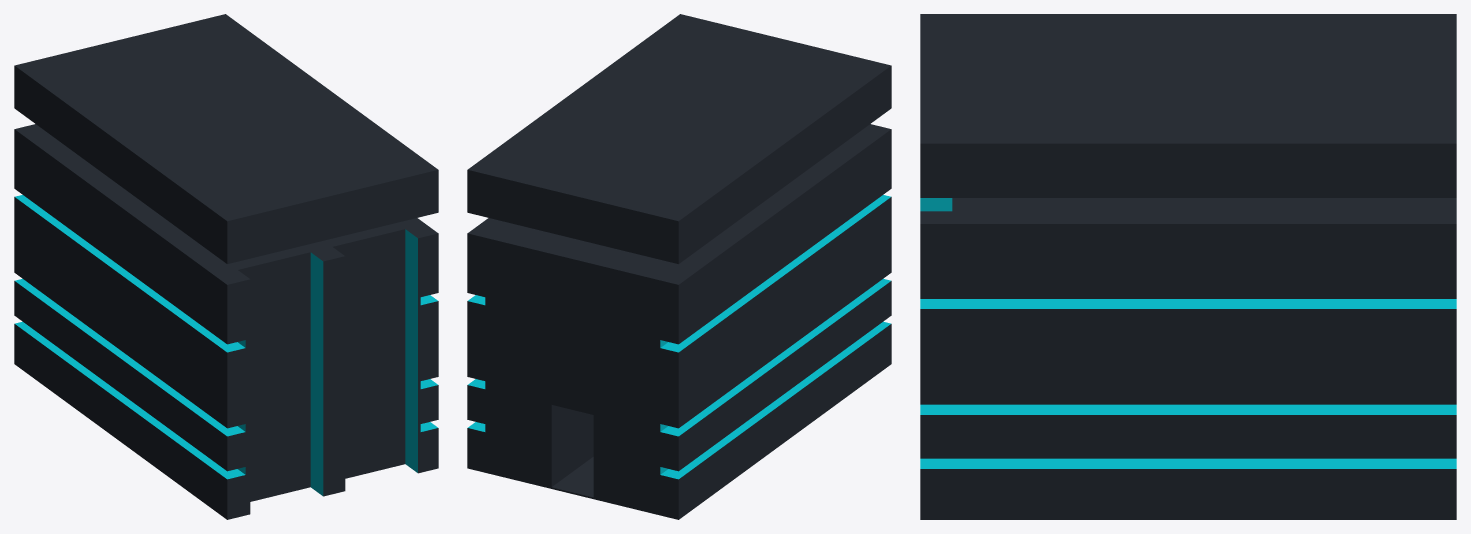
File: Building06.fbx
3 views of the same model, side by side, from view 1: azimuth 30°, elevation 25°; view 2: azimuth 150°, elevation 25°; view 3: azimuth 270°, elevation 25° (orthographic). The views are drawn at different scales.
Visible parts, largest first — view 1: Box015; view 2: Box015; view 3: Box015.
Boxes of the visible parts, left/top/right/bottom form: Box015: left=14, top=14, right=438, bottom=519; Box015: left=467, top=14, right=891, bottom=519; Box015: left=920, top=14, right=1456, bottom=519.
Bounding box in the file's own units: 57.29 × 77.42 × 99.98.
